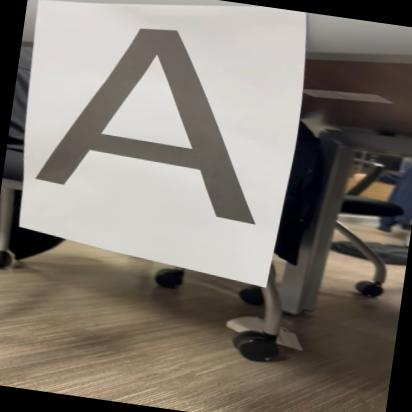seat: (32, 11, 296, 232)
